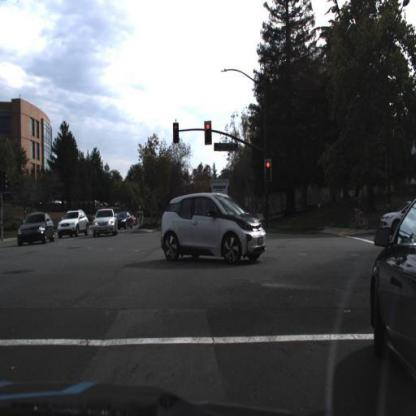biker: (350, 197, 370, 233)
car: (369, 190, 416, 408), (162, 192, 267, 262), (19, 214, 57, 245), (57, 211, 91, 239), (92, 207, 120, 239)
trafficLight-Red: (263, 159, 275, 188), (203, 119, 213, 147)
trafficLight-RedLeft: (173, 121, 181, 147)
truck: (206, 176, 231, 205), (208, 179, 233, 200)
